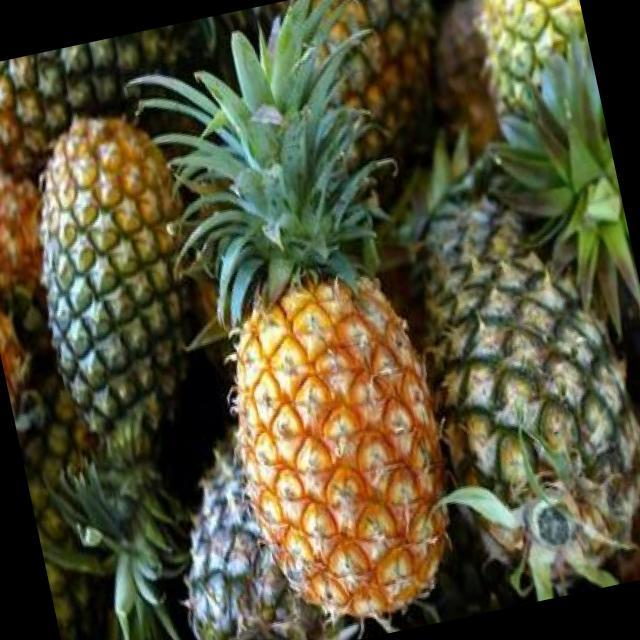PINEAPLE: (166, 31, 460, 640), (396, 146, 640, 594), (8, 99, 232, 582), (466, 0, 626, 245), (0, 17, 226, 175), (292, 0, 460, 193)
